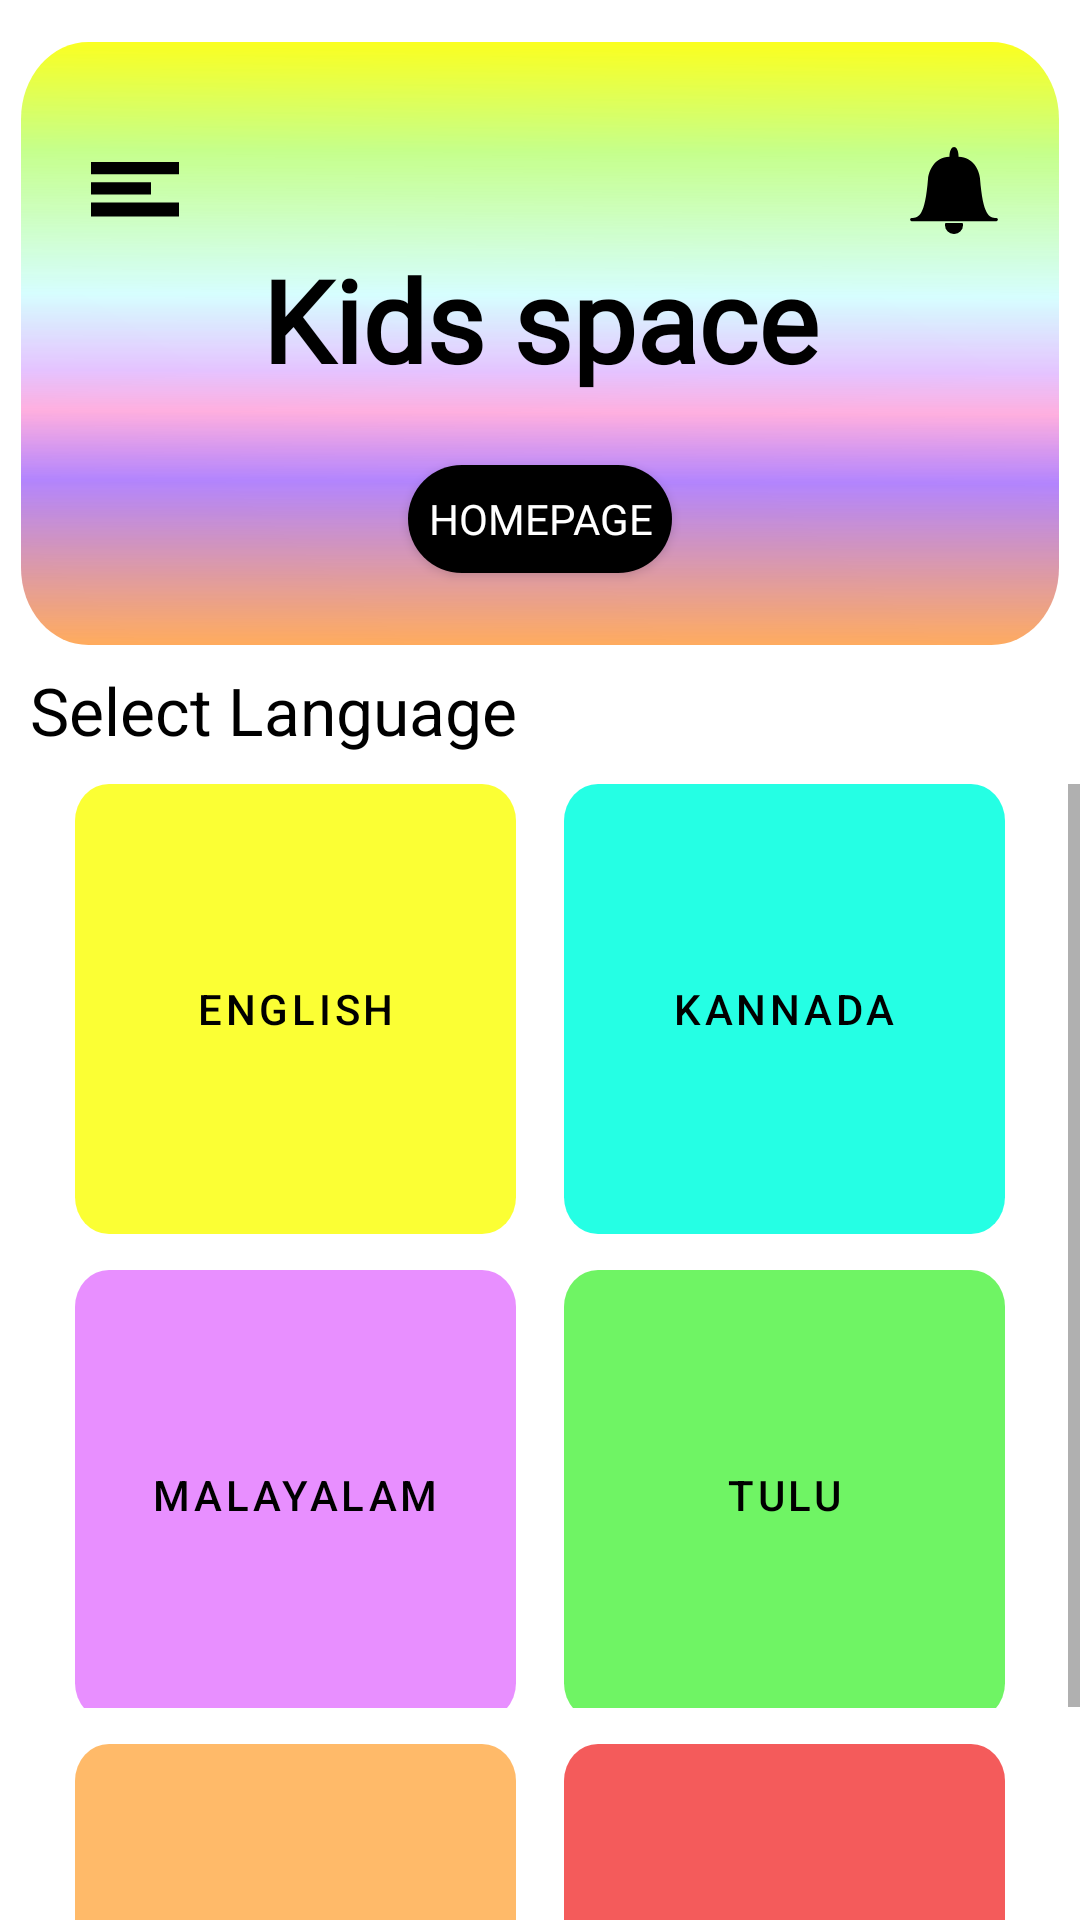

Icon click points for this 1080x1920 phone screenshot, format (x,y):
bell: (954,190)
menu: (135,202)
